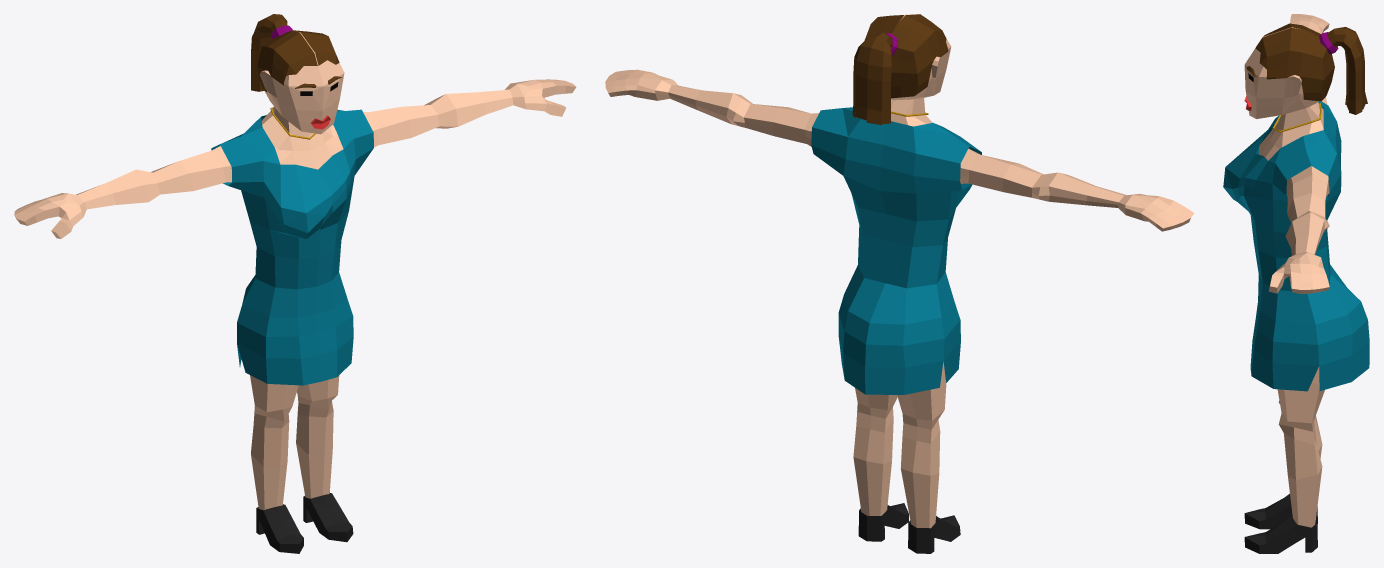
Rendered from Tetona_NPC_Prueba.fbx.
The picture shows the model from 3 angles, left to right: view 1: azimuth 30°, elevation 25°; view 2: azimuth 150°, elevation 25°; view 3: azimuth 270°, elevation 25°; orthographic projection. The views are drawn at different scales.
Parts seen in each view (by area): view 1: Cuerpo; view 2: Cuerpo; view 3: Cuerpo.
Boxes of the visible parts, <box> form: Cuerpo: <box>14,14,576,553</box>; Cuerpo: <box>605,14,1194,553</box>; Cuerpo: <box>1223,14,1369,553</box>.
Bounding box in the file's own units: 215 × 185 × 48.17.
